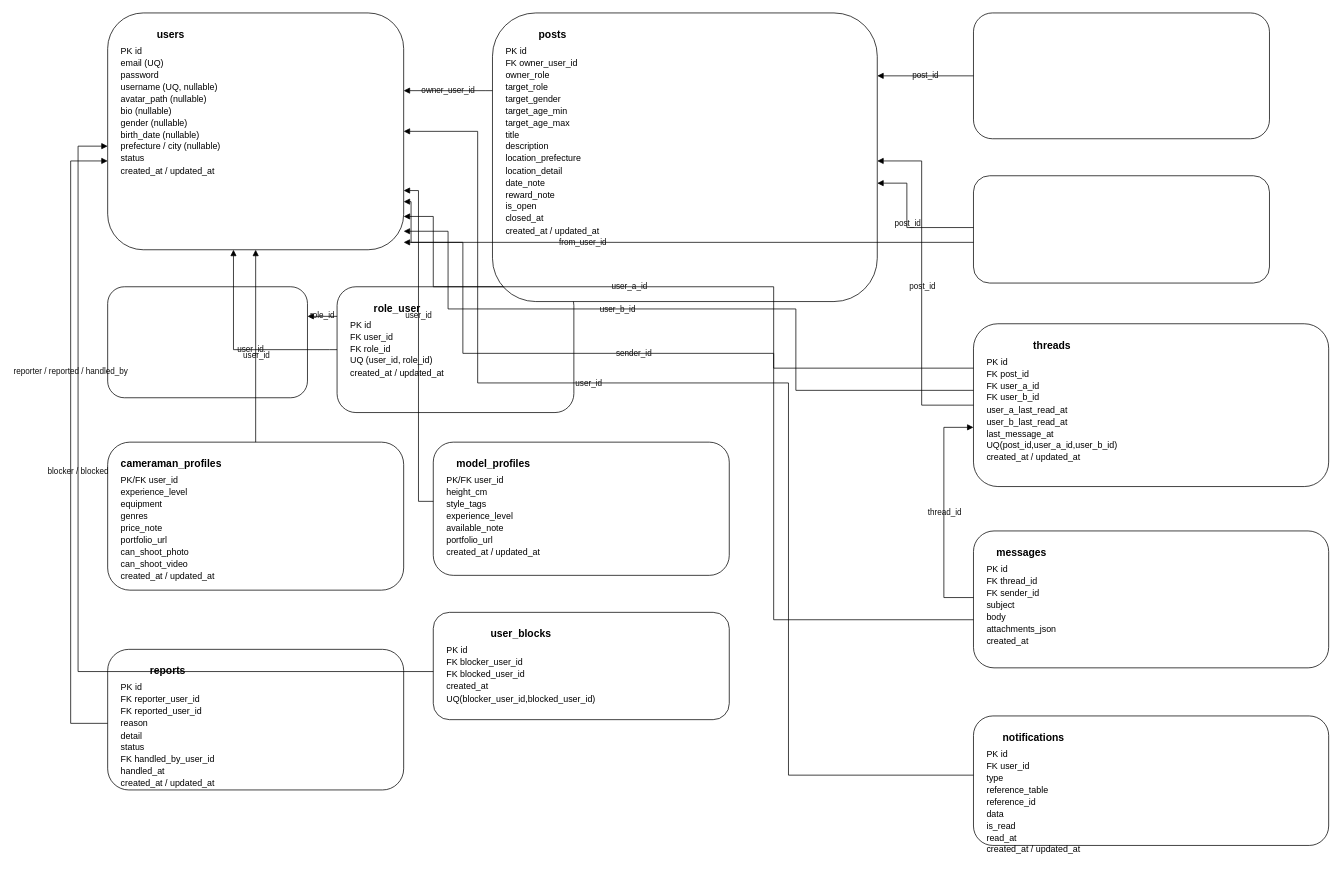
Image size: 1342x869. Some labels were removed from this diagram. The centre of each missing label's shape, as x and y in pixels:
likes PK id FK from_user_id FK post_id created_at ※ ブックマーク用途: the point at 1121,229
post_media PK id FK post_id media_type path sort_order created_at: the point at 1121,75
roles PK id key (UQ) name created_at / updated_at: the point at 207,342
